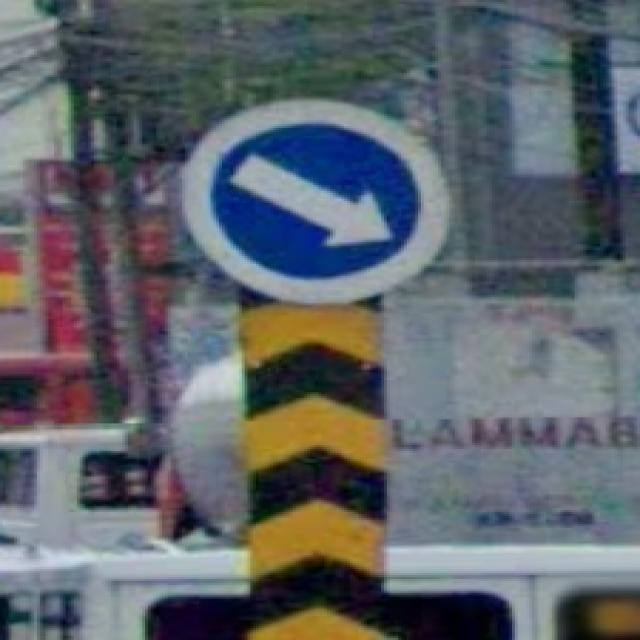keep right: (180, 97, 450, 302)
